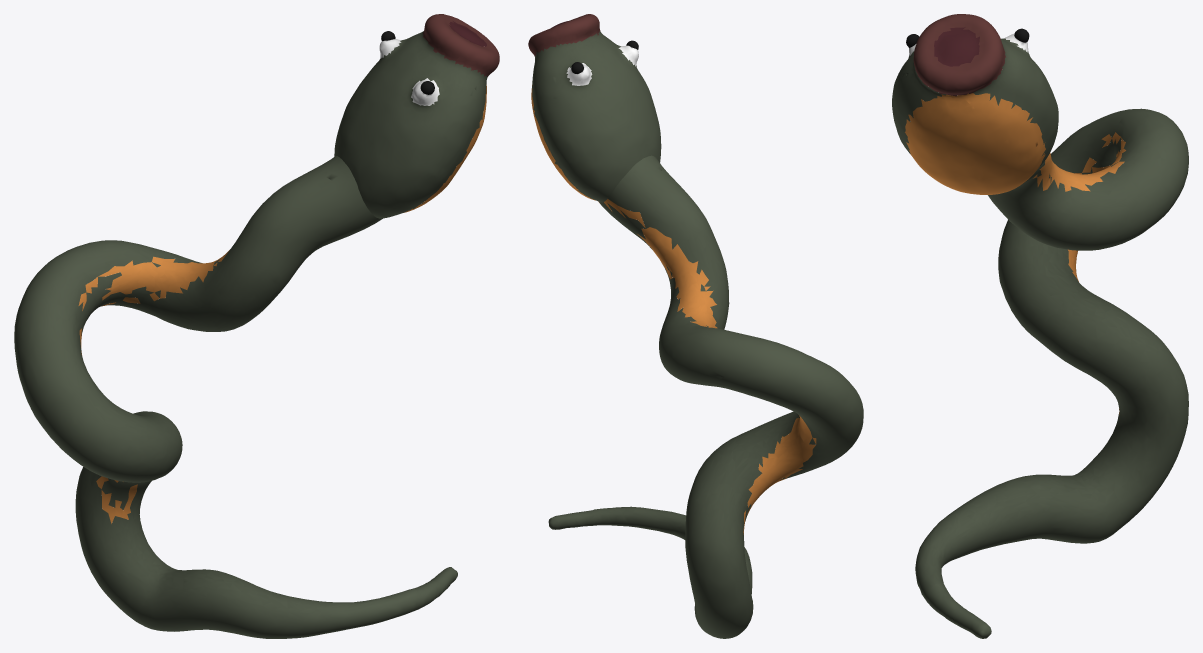
The model's file is kan-jag-lamna-ett-meddelande.glb.
The picture shows the model from 3 angles, left to right: view 1: azimuth 30°, elevation 25°; view 2: azimuth 150°, elevation 25°; view 3: azimuth 270°, elevation 25°; orthographic projection. The views are drawn at different scales.
Visible parts, largest first — view 1: enguia__r0, cabeca__r0; view 2: enguia__r0, cabeca__r0; view 3: enguia__r0, cabeca__r0.
Part boxes in pixels (<box>): enguia__r0: <box>14,156,457,638</box>; cabeca__r0: <box>334,14,499,218</box>; enguia__r0: <box>548,155,863,638</box>; cabeca__r0: <box>528,14,661,202</box>; enguia__r0: <box>915,108,1188,638</box>; cabeca__r0: <box>892,14,1058,194</box>.
Size of the model in its own units: 0.8157 by 1.12 by 0.4722.
